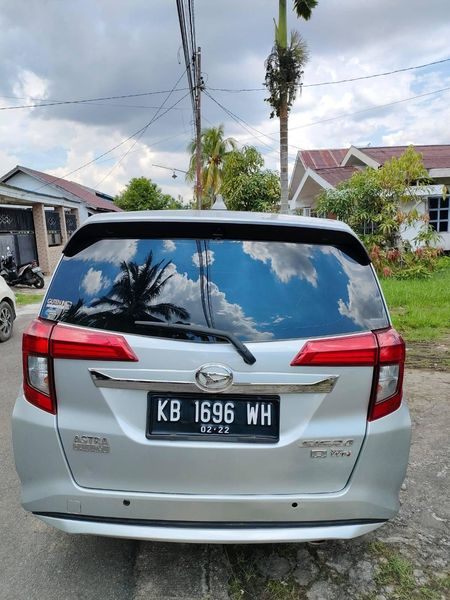plate: (140, 386, 279, 444)
